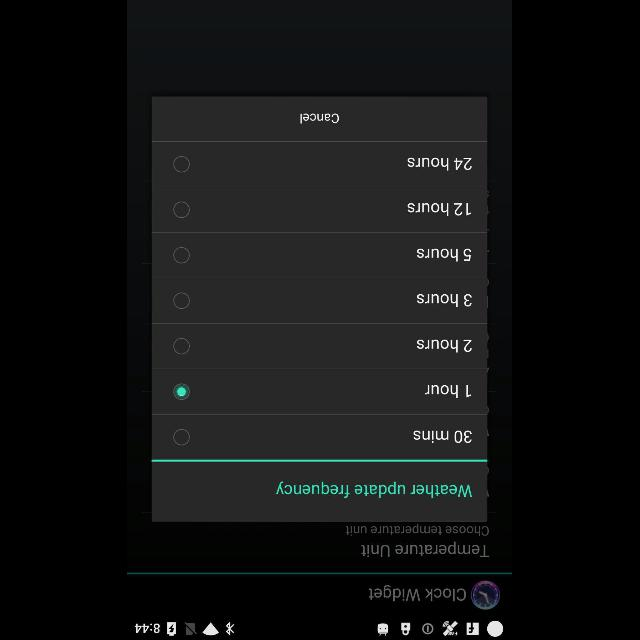checkbox: (173, 428, 190, 446), (173, 382, 190, 400), (173, 292, 190, 310), (173, 246, 190, 264), (173, 338, 190, 354), (173, 202, 190, 218), (174, 156, 190, 172)
image: (472, 580, 501, 610)
panel: (152, 96, 488, 522)
text: (277, 482, 473, 498), (362, 541, 490, 557), (369, 584, 466, 602), (346, 523, 489, 535), (408, 157, 472, 170), (408, 204, 472, 216), (413, 431, 472, 444), (418, 294, 472, 308), (418, 248, 472, 262), (418, 340, 472, 352), (426, 386, 472, 398)
textbutton: (152, 96, 488, 142)
uppertaskbar: (128, 617, 512, 639)
